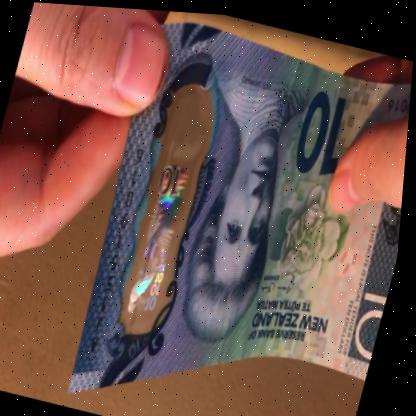10B: (123, 105, 212, 324)
